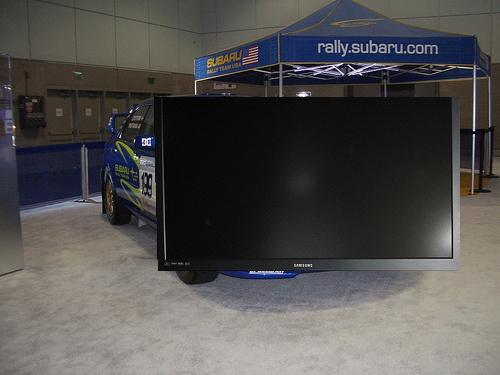tampered: (155, 98, 460, 271)
